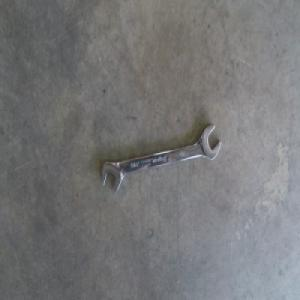Wrench: (102, 124, 221, 193)
